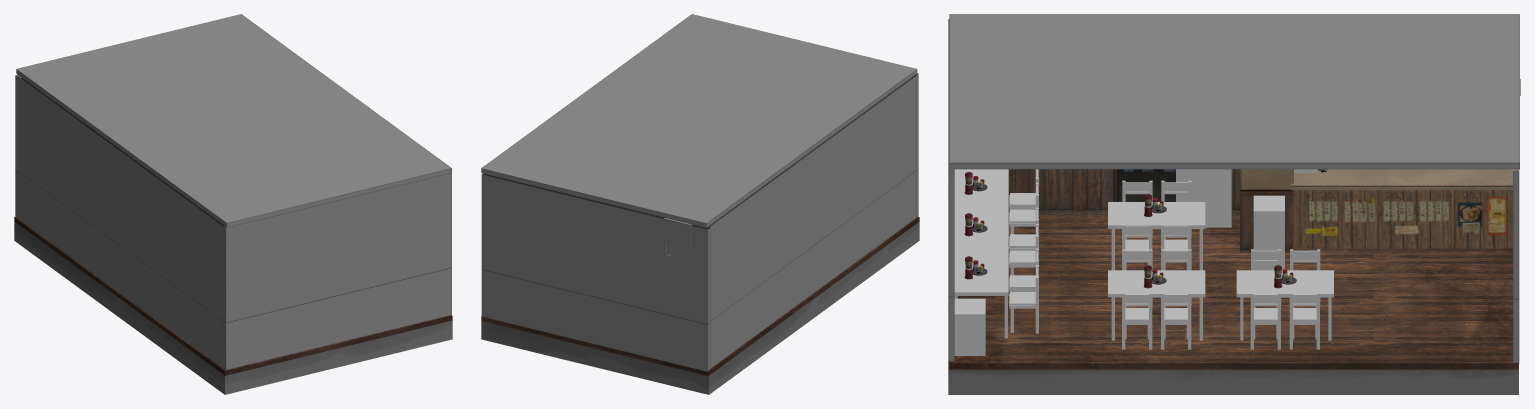
The model's file is restaurant02.fbx.
3 renders of one model, left to right at view 1: azimuth 30°, elevation 25°; view 2: azimuth 150°, elevation 25°; view 3: azimuth 270°, elevation 25°, orthographic. The views are drawn at different scales.
Parts seen in each view (by area): view 1: Cube.122, Cube.109, Cube.108, Cube.096, Cube.110; view 2: Cube.122, Cube.110, Cube.108, Cube.096, Cube.109; view 3: Cube.122, Cube.096, Cube.100, Cube.108, Cube.118, Cube.165, Cube.107, Cube.209, Cube.102, Cube.123, Cube.242, Cube.240 (+18 smaller).
Part boxes in pixels (box(x1,y1,x2,y2)): Cube.122: box(16, 14, 451, 227); Cube.109: box(223, 173, 451, 369); Cube.108: box(18, 76, 226, 369); Cube.096: box(14, 217, 452, 394); Cube.110: box(15, 75, 18, 218); Cube.122: box(481, 14, 917, 227); Cube.110: box(481, 173, 710, 371); Cube.108: box(708, 76, 916, 368); Cube.096: box(481, 216, 919, 394); Cube.109: box(912, 73, 918, 217); Cube.122: box(949, 14, 1519, 169); Cube.096: box(948, 215, 1518, 394); Cube.100: box(1293, 190, 1512, 248); Cube.108: box(1008, 169, 1239, 215); Cube.118: box(1291, 169, 1518, 190); Cube.165: box(1240, 169, 1293, 252); Cube.107: box(1236, 270, 1333, 340); Cube.209: box(1108, 270, 1205, 340); Cube.102: box(1108, 202, 1205, 270); Cube.123: box(954, 251, 1008, 338); Cube.242: box(1176, 169, 1231, 227); Cube.240: box(1253, 195, 1284, 270).
Size of the model in its own units: 271 by 195 by 436.
